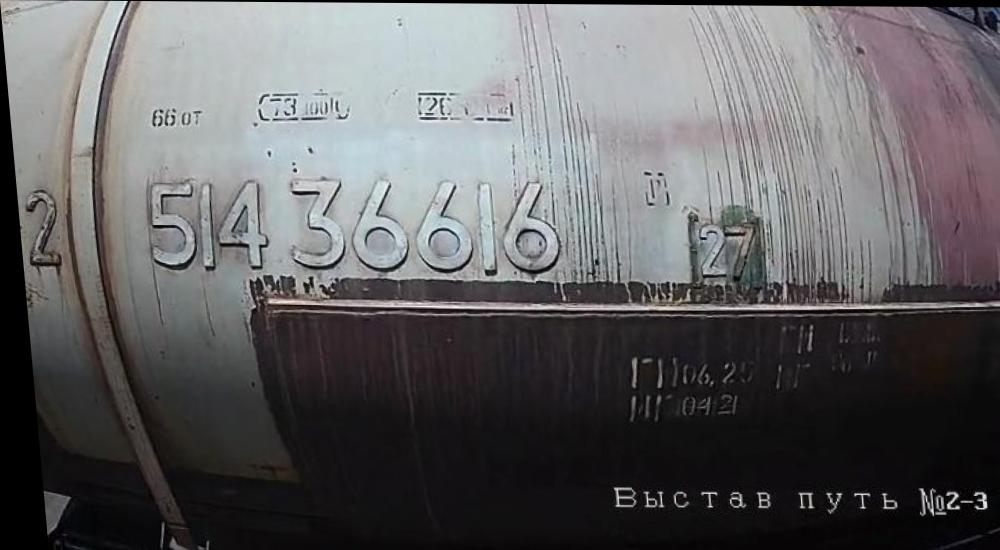Wagon-number: (136, 173, 565, 276)
